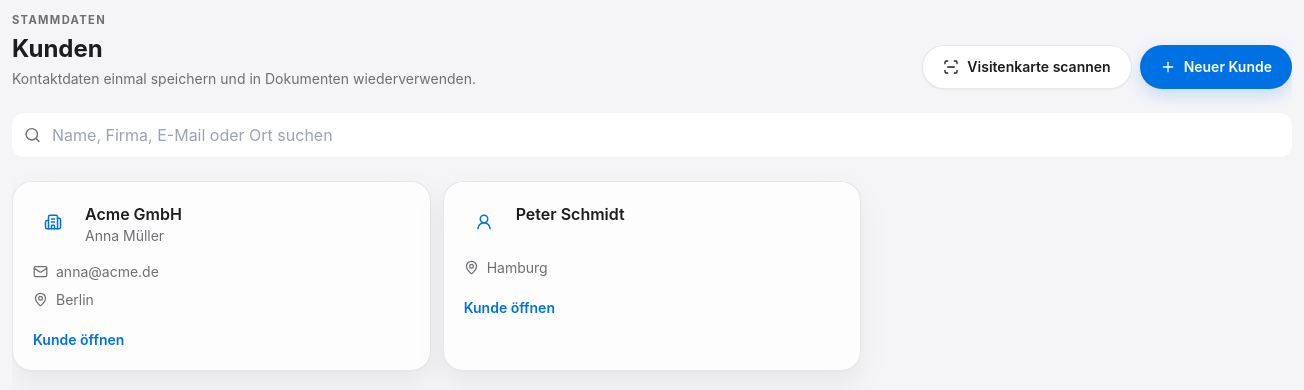
Test: Clients › filters customers by name, company and place
The image size is (1304, 390).
Type "hamburg" into the field named "Kunden durchsuchen" at (652, 135), box [12,113,1292,157]
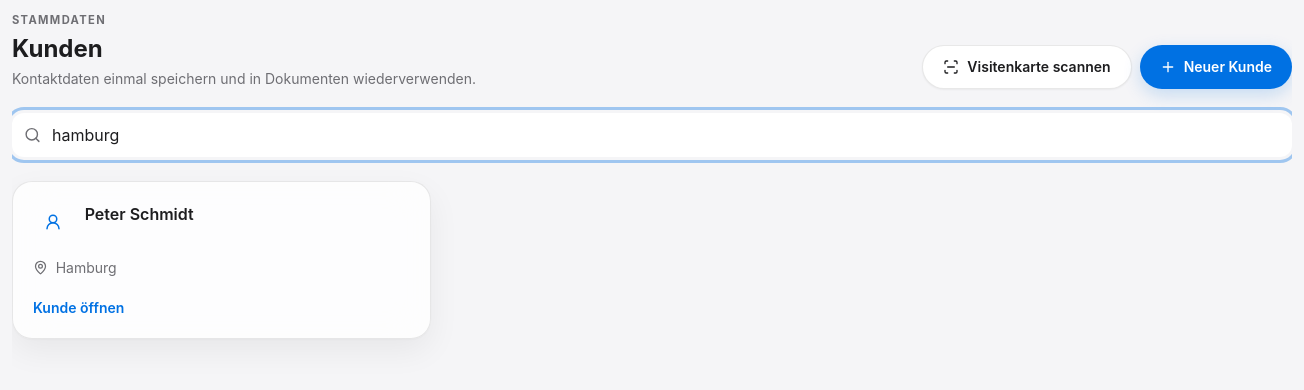
Check: the heading "Peter Schmidt" is shown, box [85,202,194,226]
Check: the button "Acme GmbH" is gone
